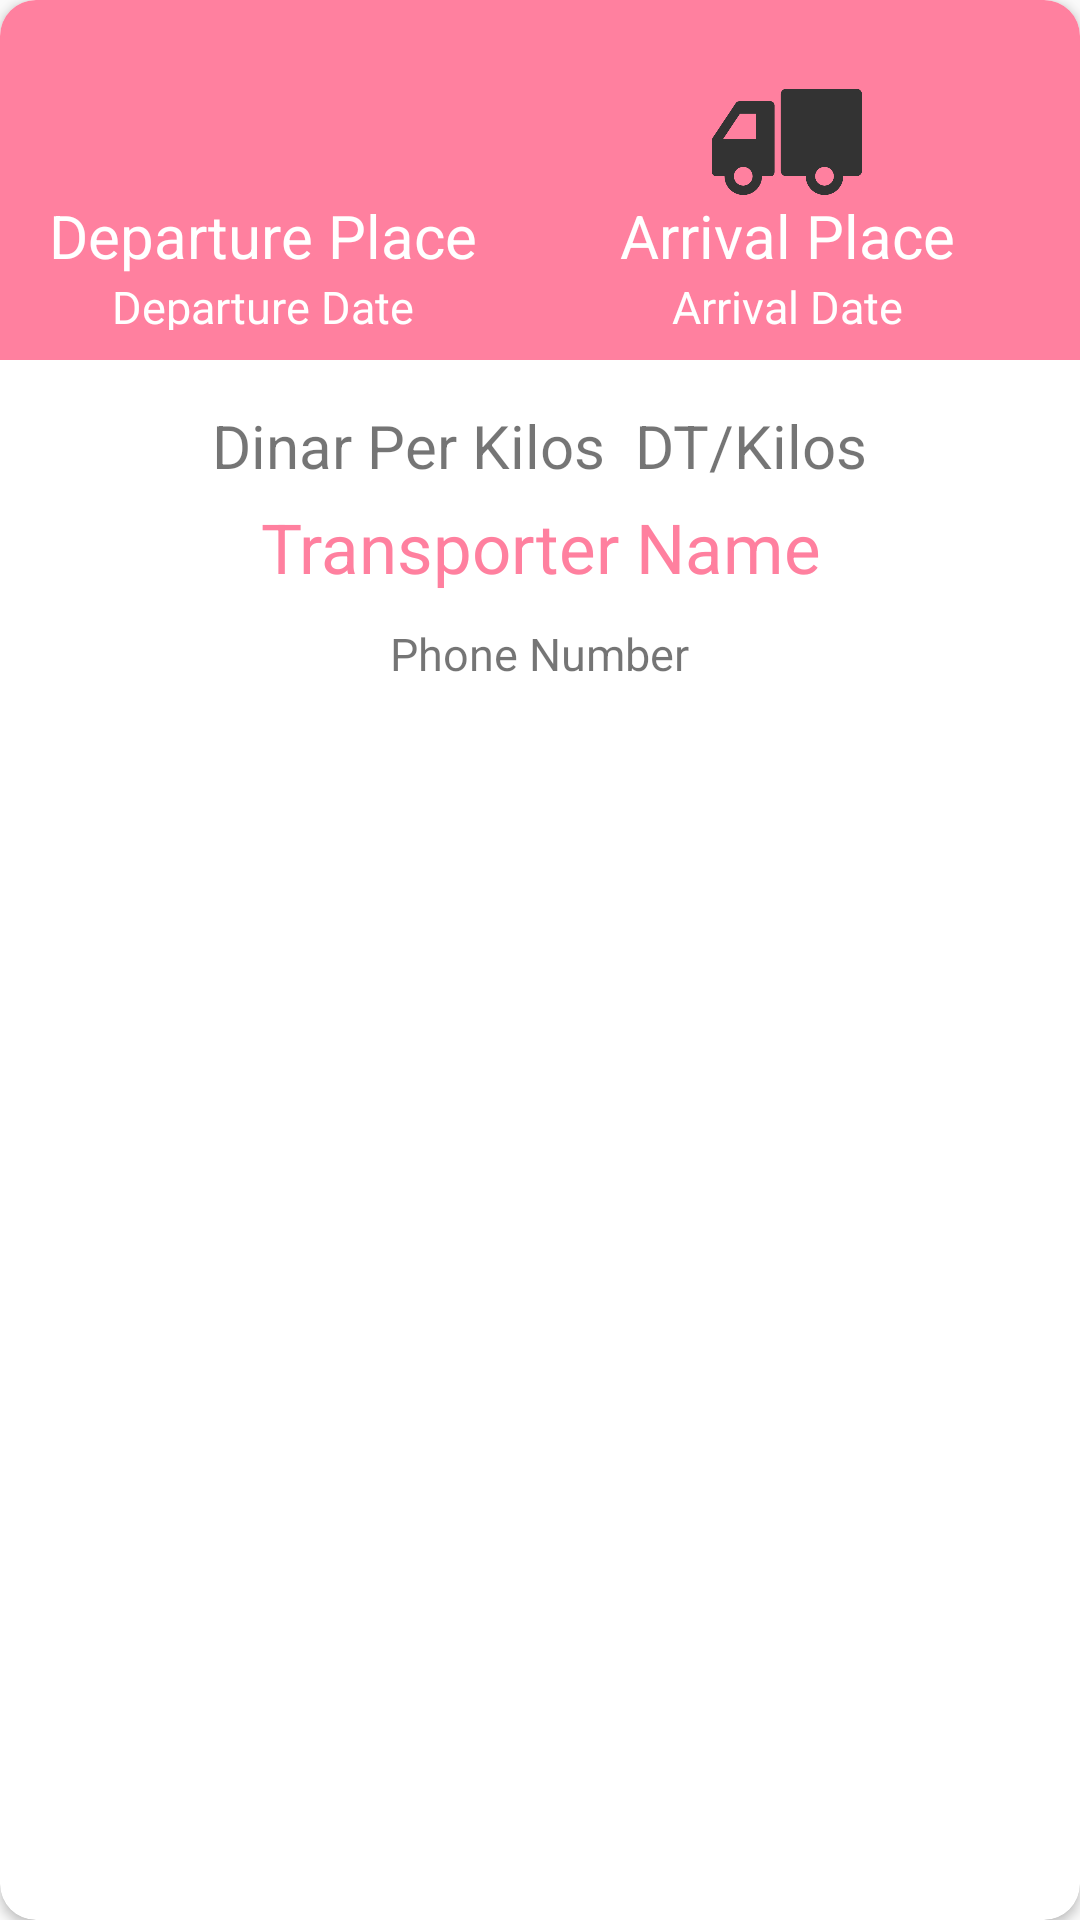

Where icons sit on this 1080 × 1920 app screen, as (x1, y1, x2, y2):
truck: (712, 89, 862, 195)
